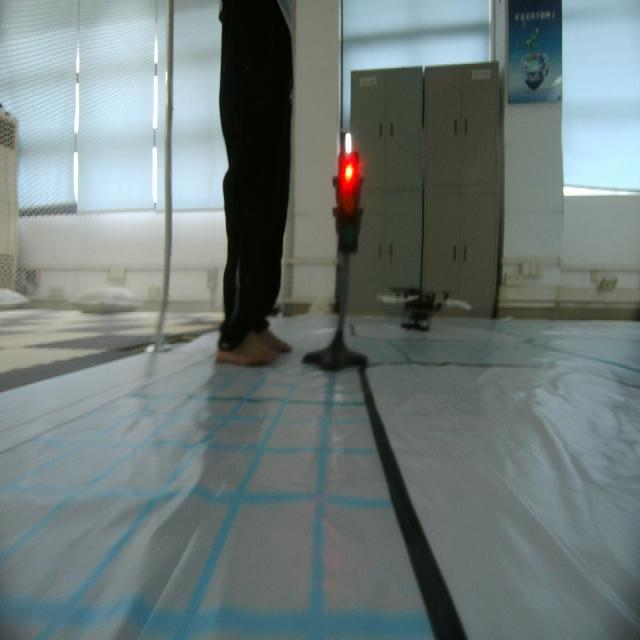red: (332, 153, 362, 257)
